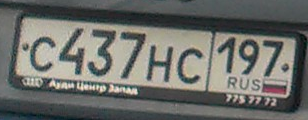character: (85, 26, 118, 82), (117, 29, 148, 86), (58, 28, 89, 80), (145, 41, 176, 86), (175, 46, 205, 89), (28, 35, 58, 74), (260, 35, 285, 81), (237, 37, 261, 79), (214, 35, 236, 77)
